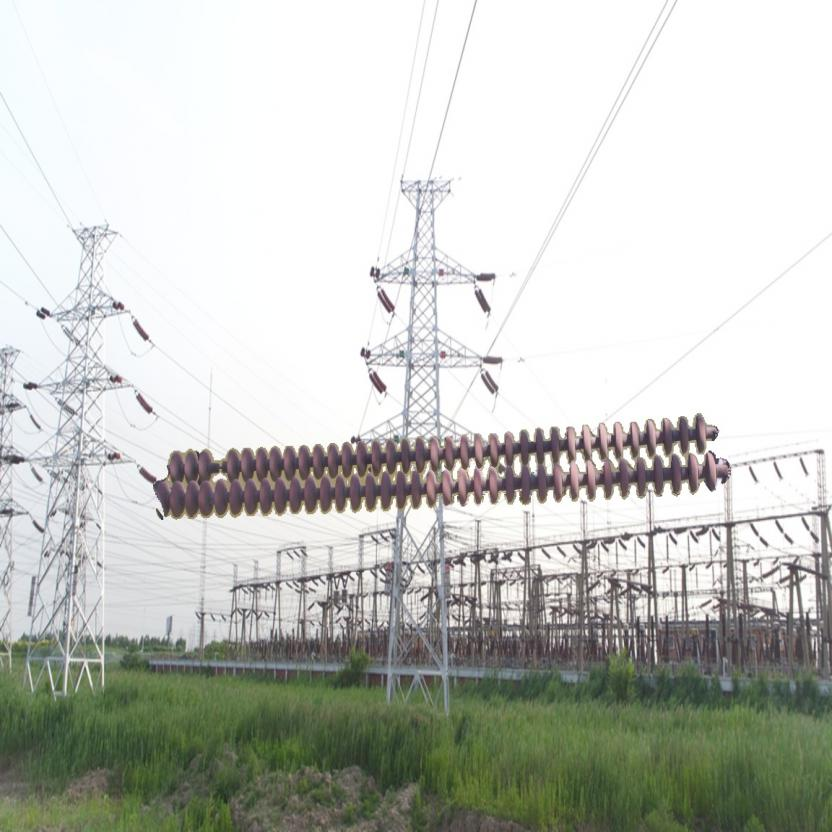defect: (196, 443, 239, 481)
